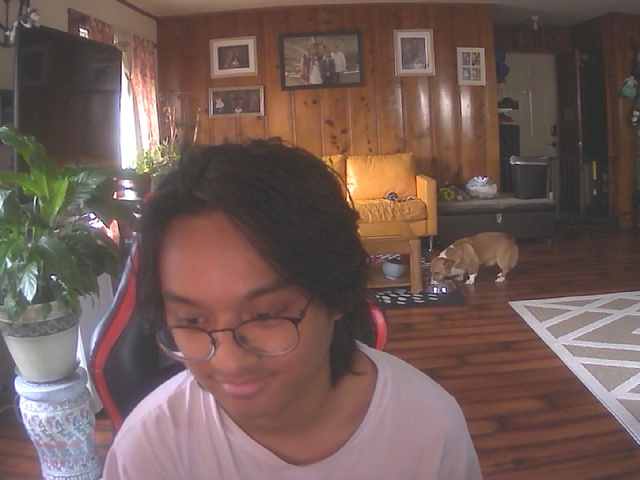happy: (141, 179, 357, 416)
